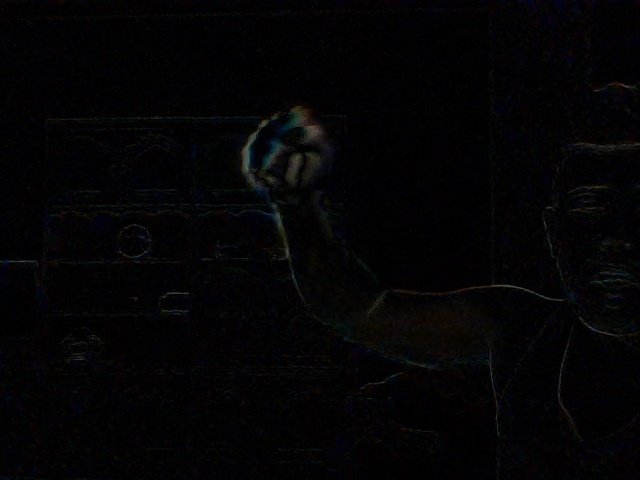hand_fi: (234, 98, 334, 202)
